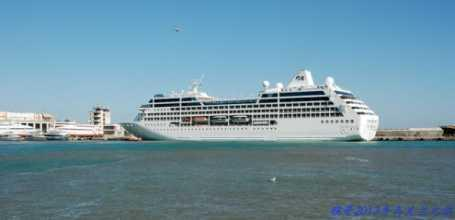youlun: (121, 72, 380, 144)
